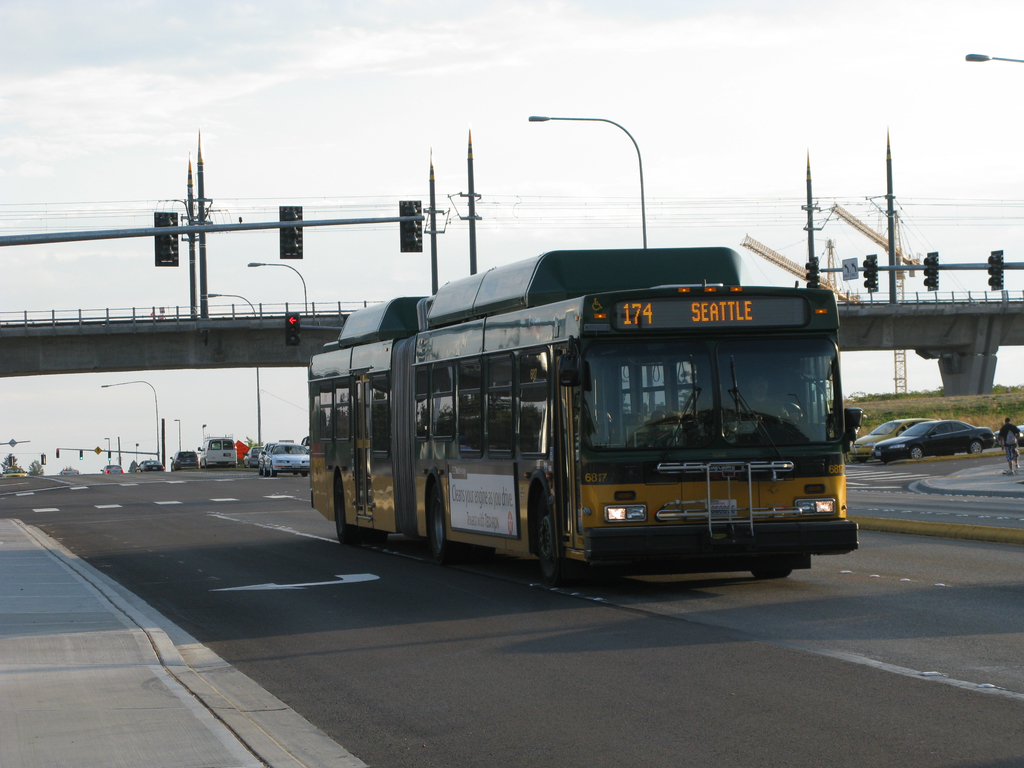Bus: (311, 245, 867, 583)
